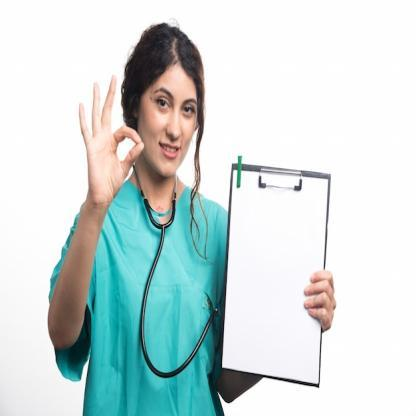ok: (73, 73, 145, 212)
